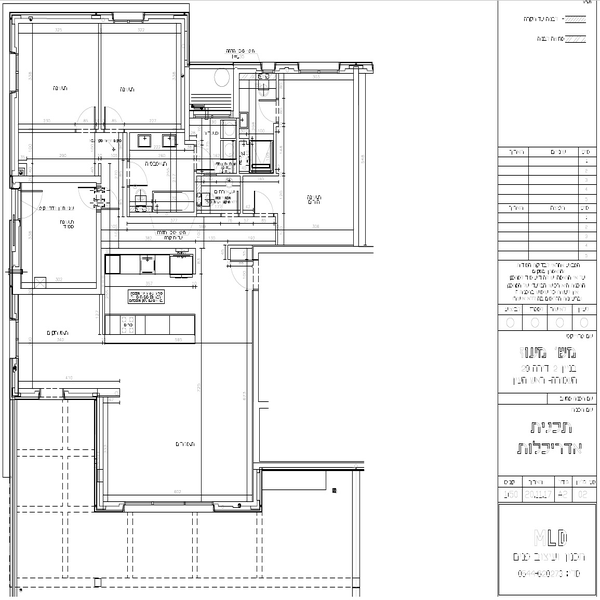room: (181, 60, 365, 248), (8, 10, 196, 132), (95, 386, 260, 515), (100, 239, 257, 350), (10, 176, 104, 294)
